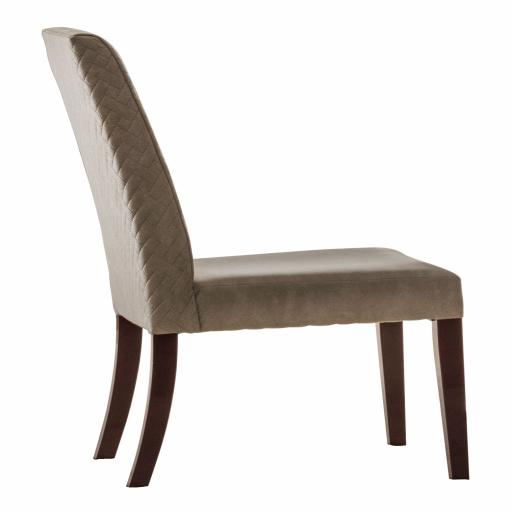chair: (10, 24, 483, 499)
